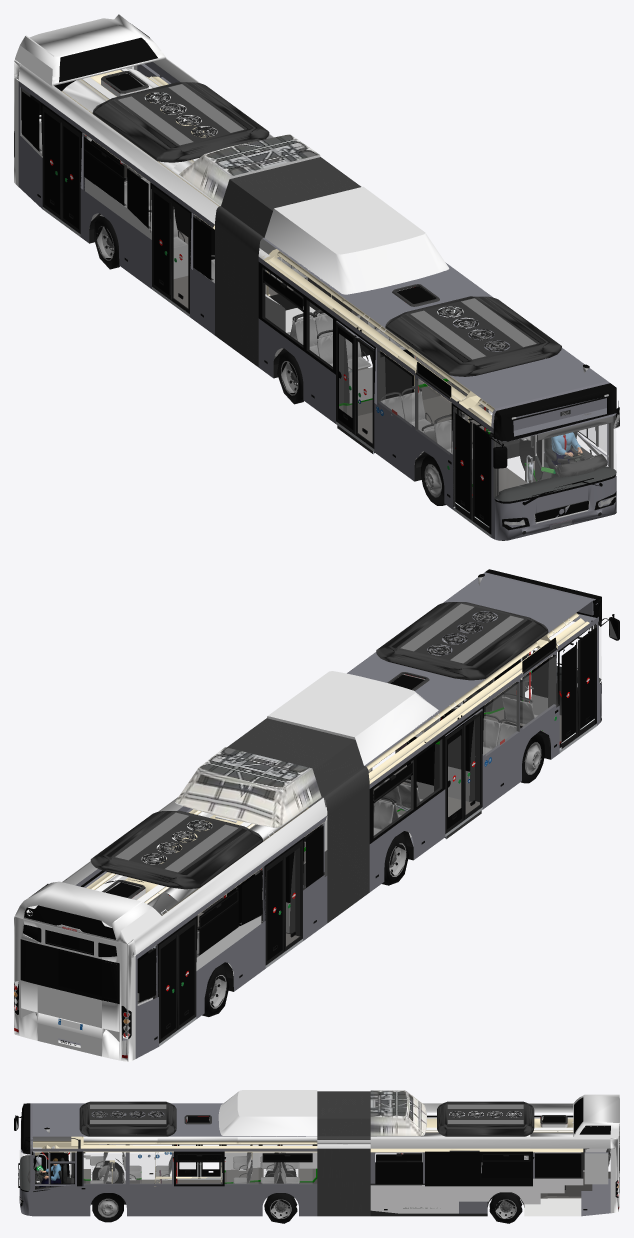
File: cq_autobus.glb
3 renders of one model, top to bottom at view 1: azimuth 30°, elevation 25°; view 2: azimuth 150°, elevation 25°; view 3: azimuth 270°, elevation 25°, orthographic. The views are drawn at different scales.
Visible parts, largest first — view 1: Object_10, Object_113, Object_20, Object_91, Object_11, Object_78, Object_87, Object_83, Object_39, Object_117, Object_15, Object_106 (+10 smaller); view 2: Object_10, Object_91, Object_113, Object_87, Object_20, Object_78, Object_117, Object_83, Object_39, Object_15, Object_11, Object_33 (+7 smaller); view 3: Object_10, Object_91, Object_20, Object_113, Object_78, Object_11, Object_8, Object_39, Object_87, Object_15, Object_117, Object_106 (+14 smaller).
Part boxes in pixels (x1,y1,x2,y2): Object_10: [18, 62, 616, 540]; Object_113: [21, 71, 613, 506]; Object_20: [179, 134, 449, 294]; Object_91: [22, 73, 602, 526]; Object_11: [339, 334, 616, 528]; Object_78: [215, 157, 361, 367]; Object_87: [14, 14, 568, 478]; Object_83: [42, 106, 616, 540]; Object_39: [18, 58, 594, 458]; Object_117: [14, 88, 619, 534]; Object_15: [62, 70, 494, 426]; Object_106: [39, 121, 530, 454]; Object_10: [18, 572, 601, 1058]; Object_91: [45, 616, 594, 1045]; Object_113: [90, 602, 596, 1002]; Object_87: [14, 618, 588, 1061]; Object_20: [175, 671, 438, 827]; Object_78: [227, 718, 369, 923]; Object_117: [14, 569, 614, 1040]; Object_83: [27, 620, 601, 1043]; Object_39: [62, 797, 327, 970]; Object_15: [86, 612, 589, 915]; Object_11: [448, 626, 601, 816]; Object_33: [115, 603, 523, 872]; Object_10: [19, 1103, 610, 1216]; Object_91: [18, 1116, 581, 1187]; Object_20: [218, 1090, 426, 1136]; Object_113: [27, 1101, 610, 1191]; Object_78: [317, 1091, 370, 1216]; Object_11: [20, 1131, 312, 1190]; Object_8: [224, 1148, 610, 1213]; Object_39: [36, 1103, 610, 1184]; Object_87: [33, 1094, 619, 1213]; Object_15: [33, 1118, 583, 1186]; Object_117: [15, 1103, 619, 1206]; Object_106: [90, 1144, 610, 1183].
Bounding box in the file's own units: 3.01 × 3.43 × 18.23.
Materials: 92 (46 with a texture image).
